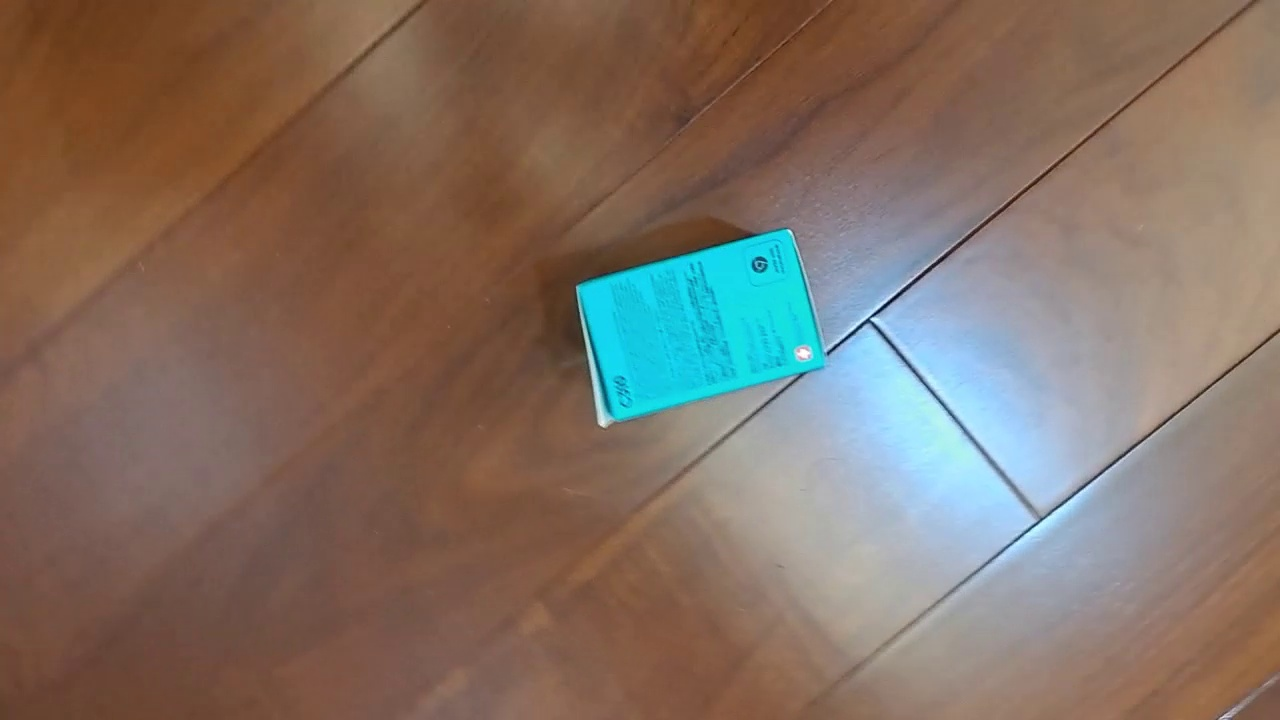webcam: (575, 227, 831, 430)
